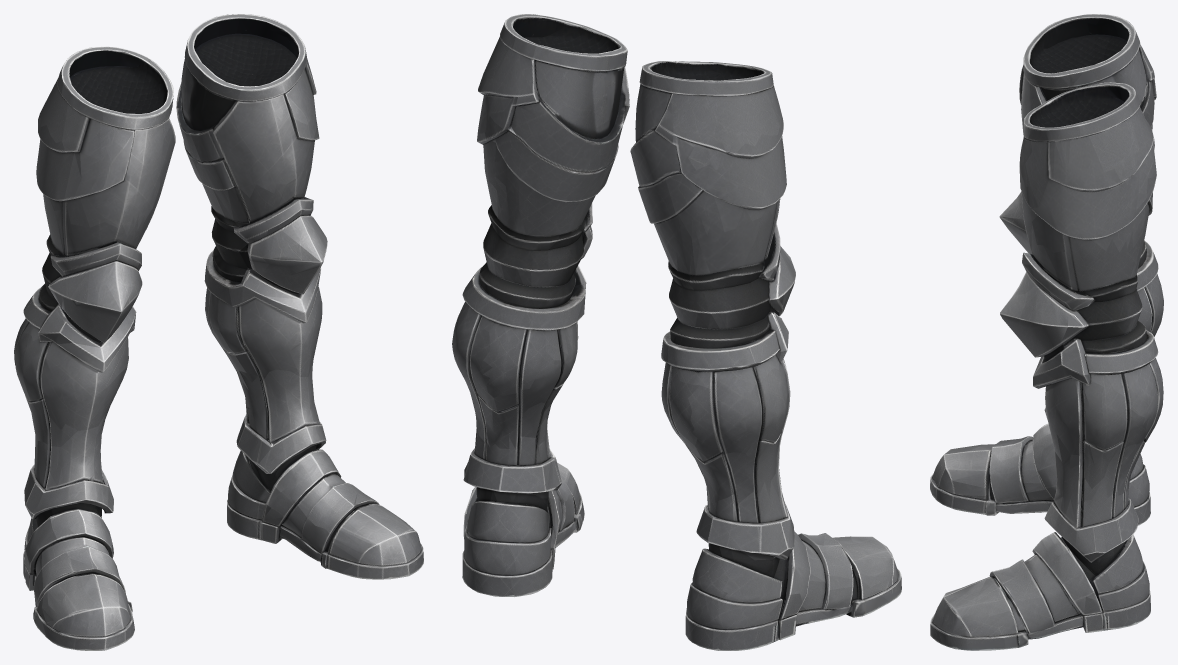
File: Meshy_AI_steel_leg_boots_prop__1105013436_.glb
The picture shows the model from 3 angles, left to right: view 1: azimuth 30°, elevation 25°; view 2: azimuth 150°, elevation 25°; view 3: azimuth 270°, elevation 25°; orthographic projection. The views are drawn at different scales.
Parts seen in each view (by area): view 1: output_unwrapped; view 2: output_unwrapped; view 3: output_unwrapped.
Part boxes in pixels (x1,y1,x2,y2): output_unwrapped: (14,14,423,650); output_unwrapped: (452,14,901,650); output_unwrapped: (930,14,1163,650).
Bounding box in the file's own units: 1.44 × 1.9 × 0.8055.
1 material, 1 textured.
